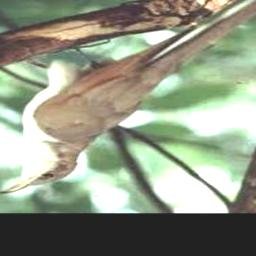Cuckoo: (0, 0, 256, 194)
